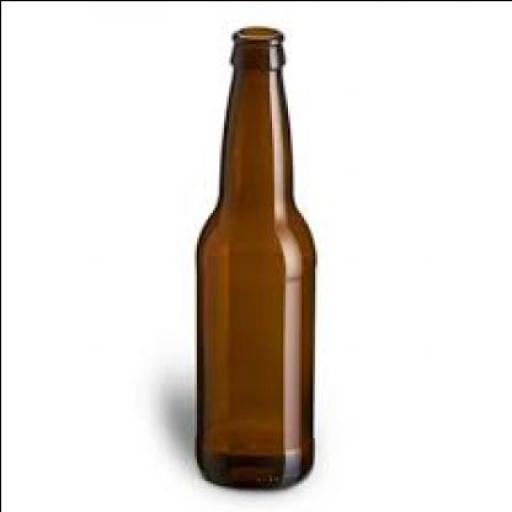glass: (194, 25, 316, 485)
